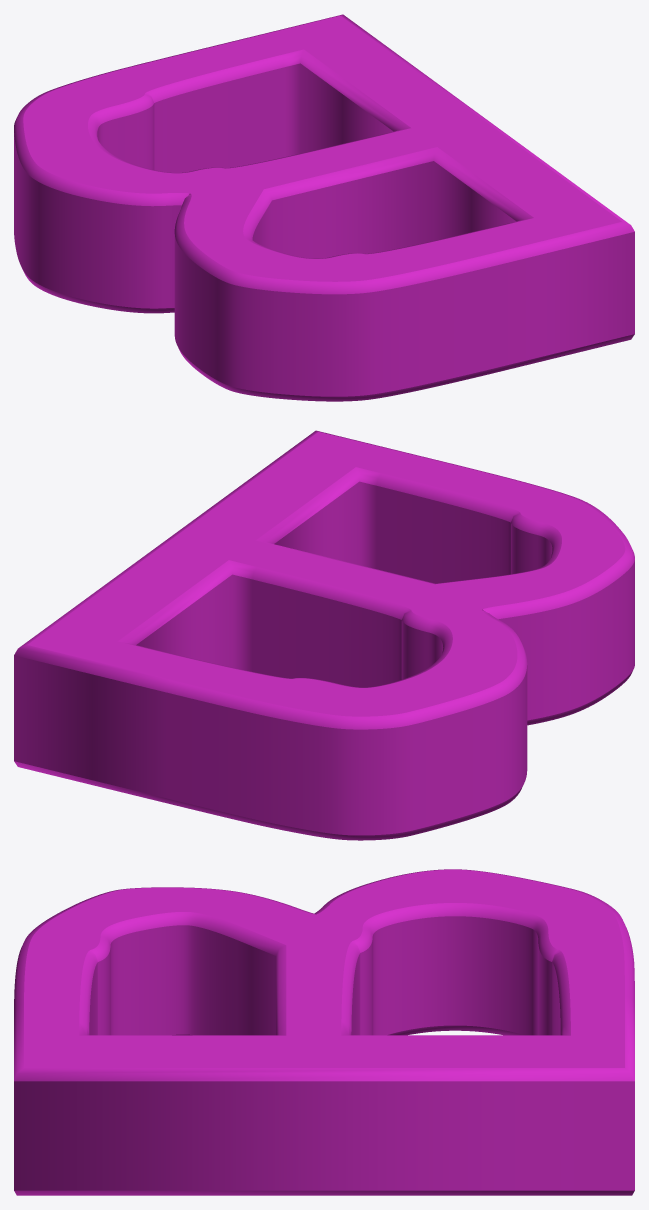
The model's file is Blocky_LetterB.fbx.
3 views of the same model, one above another, from view 1: azimuth 30°, elevation 25°; view 2: azimuth 150°, elevation 25°; view 3: azimuth 270°, elevation 25° (orthographic). The views are drawn at different scales.
Visible parts, largest first — view 1: BlockyLetter_B; view 2: BlockyLetter_B; view 3: BlockyLetter_B.
Boxes of the visible parts, box(x1,y1,x2,y2) form: BlockyLetter_B: box(14, 14, 634, 401); BlockyLetter_B: box(14, 430, 634, 840); BlockyLetter_B: box(14, 869, 634, 1195).
Size of the model in its own units: 0.487 by 0.14 by 0.618.
